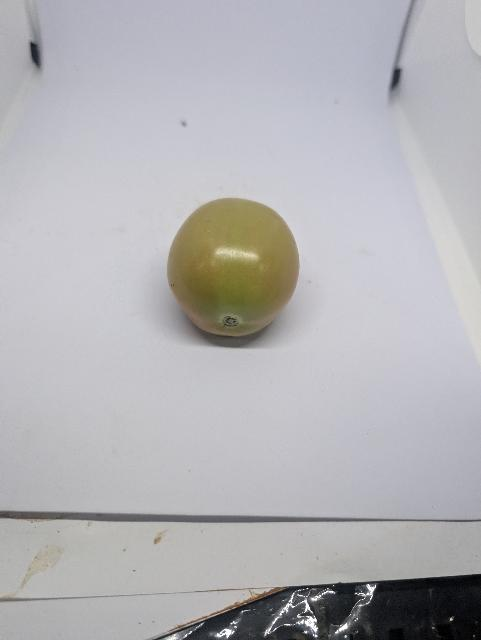breaker: (168, 198, 300, 337)
